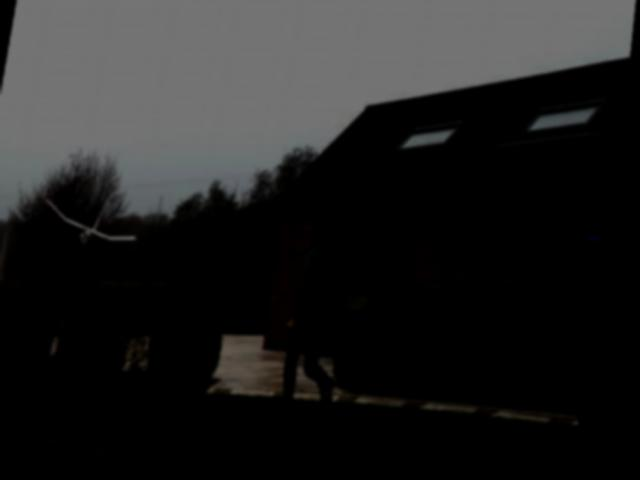uav: (34, 187, 154, 267)
